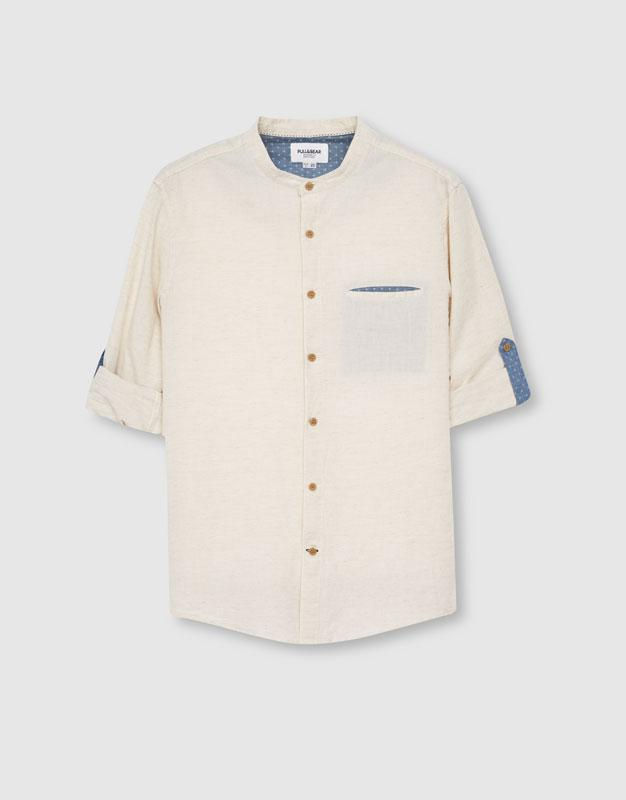teeshirt: (91, 105, 535, 659)
